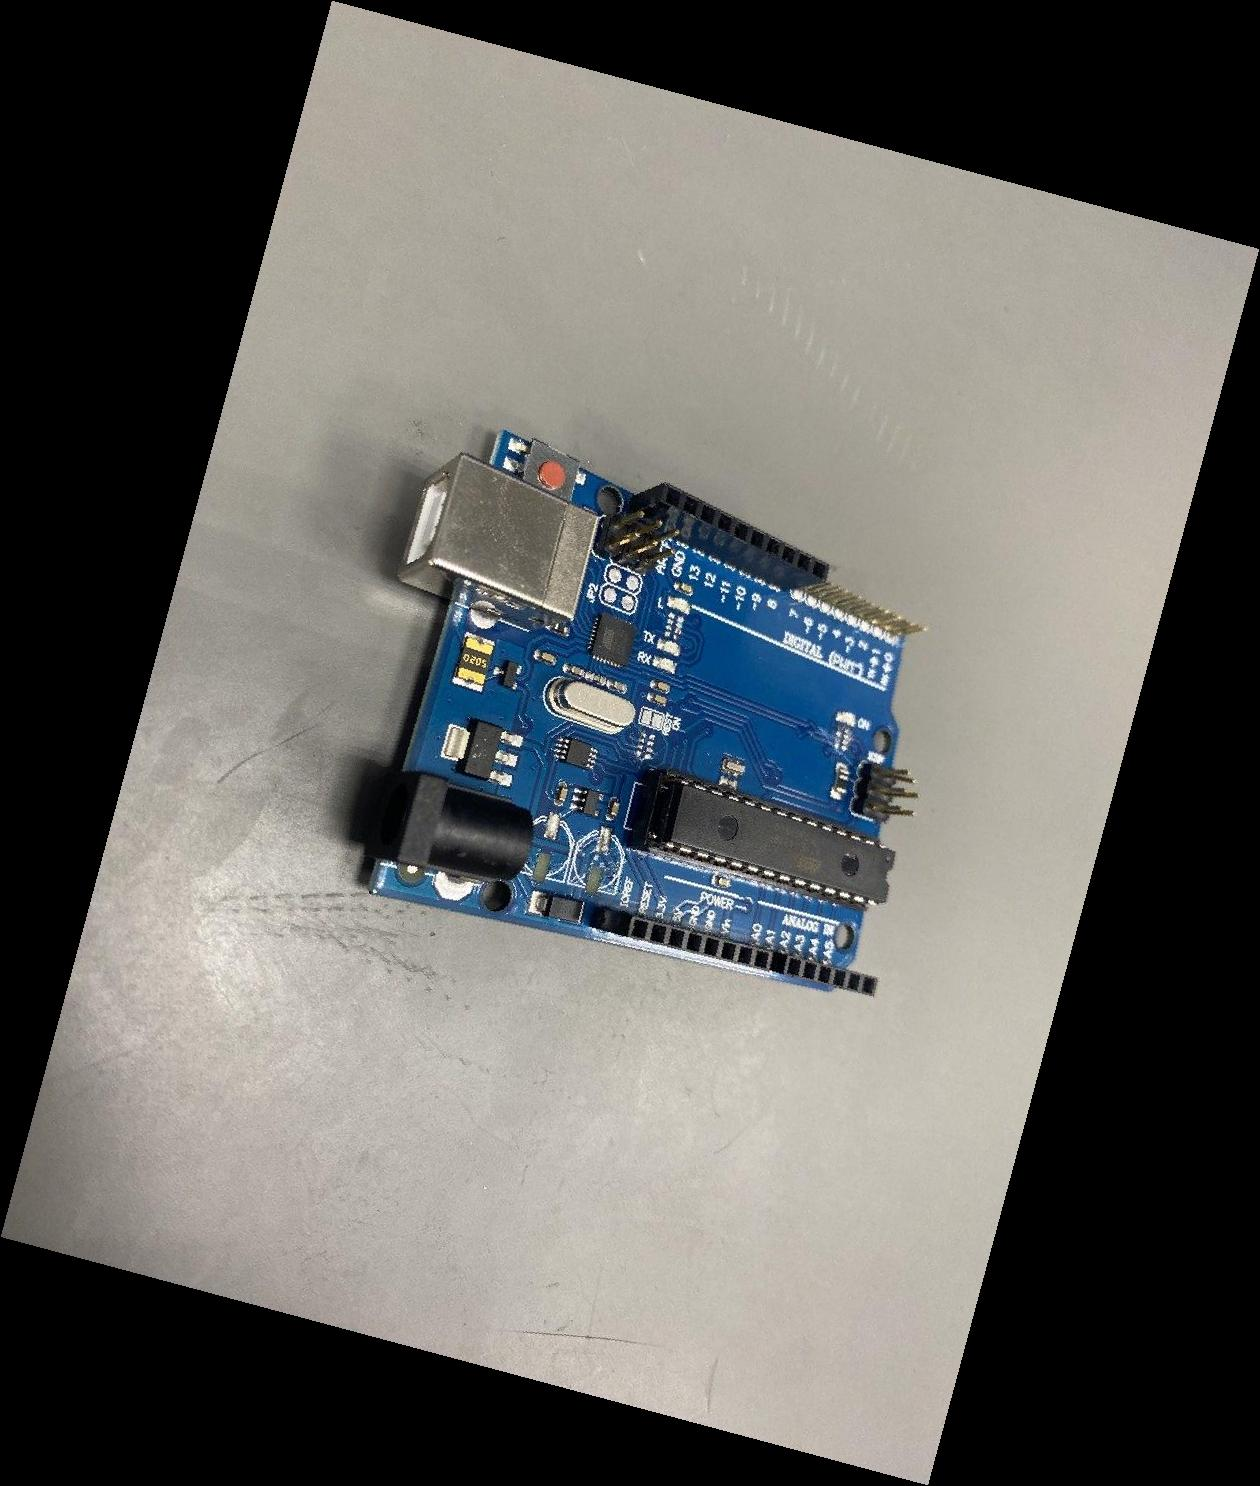ATmega328 chip: (625, 769, 899, 915)
Arduino board: (364, 427, 927, 997)
USB: (395, 451, 600, 634)
pins: (629, 481, 830, 591), (589, 906, 774, 972), (769, 949, 879, 997)
